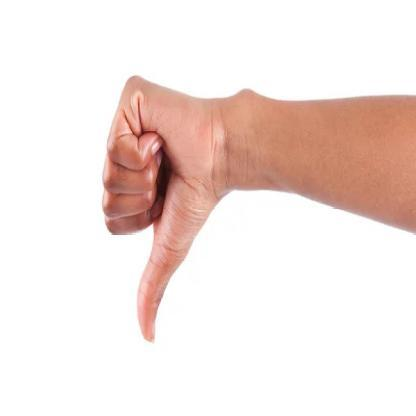thumb_down: (98, 67, 216, 348)
